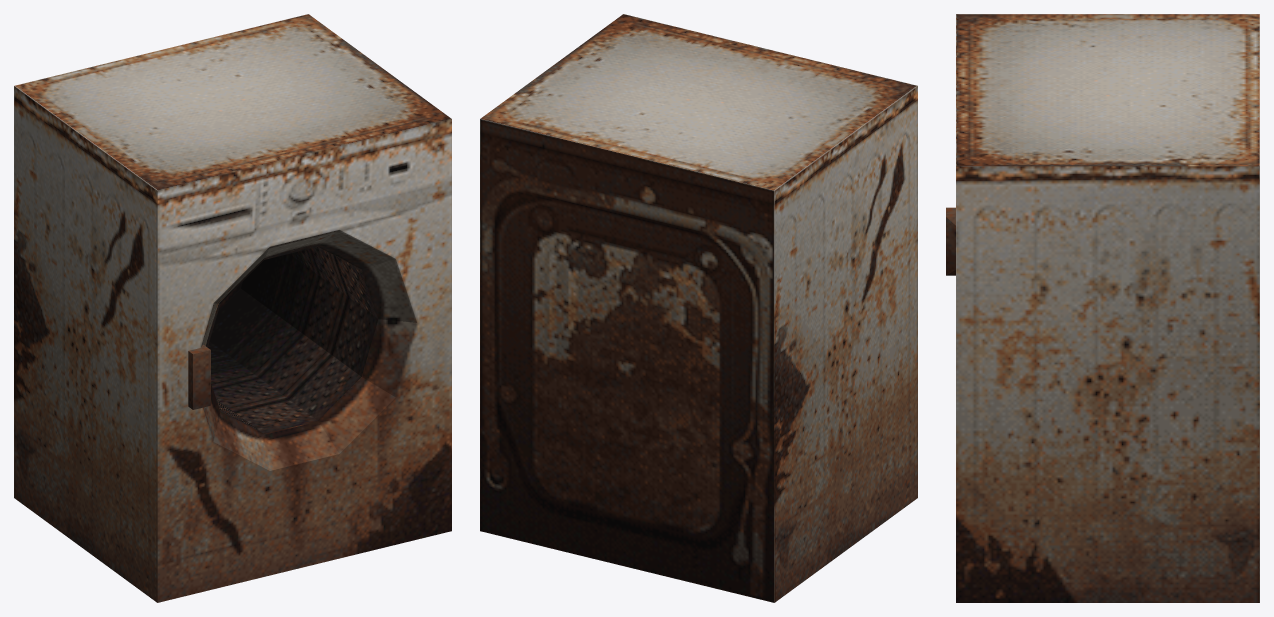
File: washing-machine_dirty.obj
The picture shows the model from 3 angles, left to right: view 1: azimuth 30°, elevation 25°; view 2: azimuth 150°, elevation 25°; view 3: azimuth 270°, elevation 25°; orthographic projection. The views are drawn at different scales.
Parts seen in each view (by area): view 1: washing-machine_dirty-col; view 2: washing-machine_dirty-col; view 3: washing-machine_dirty-col.
Part boxes in pixels (bbox=[...]): washing-machine_dirty-col: bbox=[14, 14, 451, 602]; washing-machine_dirty-col: bbox=[480, 14, 917, 602]; washing-machine_dirty-col: bbox=[946, 14, 1259, 602].
Bounding box in the file's own units: 0.74 × 0.99 × 0.6449.
